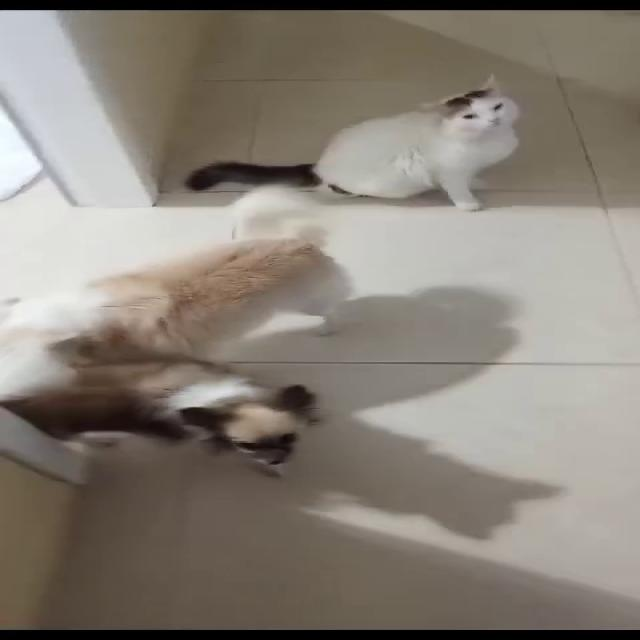Pedrita: (14, 326, 372, 493)
Simba: (263, 66, 639, 258)
Theo: (263, 66, 639, 258), (23, 204, 377, 369)
